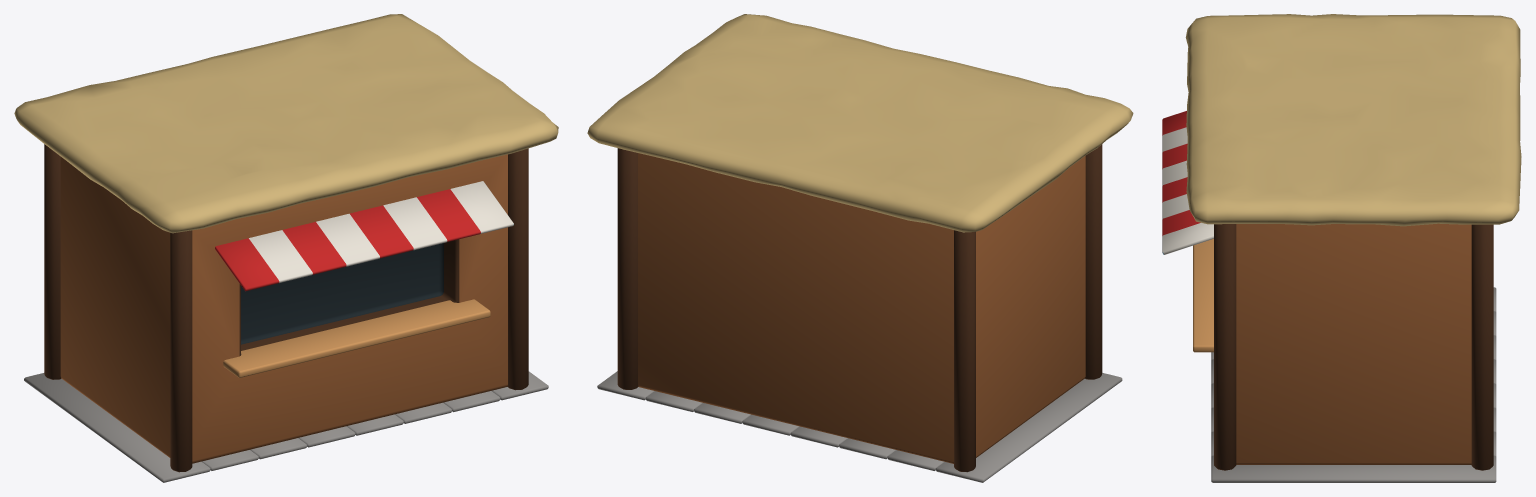
File: Restaurant.fbx
3 renders of one model, left to right at view 1: azimuth 30°, elevation 25°; view 2: azimuth 150°, elevation 25°; view 3: azimuth 270°, elevation 25°, orthographic. The views are drawn at different scales.
Parts seen in each view (by area): view 1: etterem 1; view 2: etterem 1; view 3: etterem 1.
Part boxes in pixels (box(x1,y1,x2,y2)): etterem 1: box(14, 14, 558, 482); etterem 1: box(587, 14, 1133, 482); etterem 1: box(1162, 14, 1521, 482).
Size of the model in its own units: 4.78 by 3.12 by 3.62.
1 material, 1 textured.
